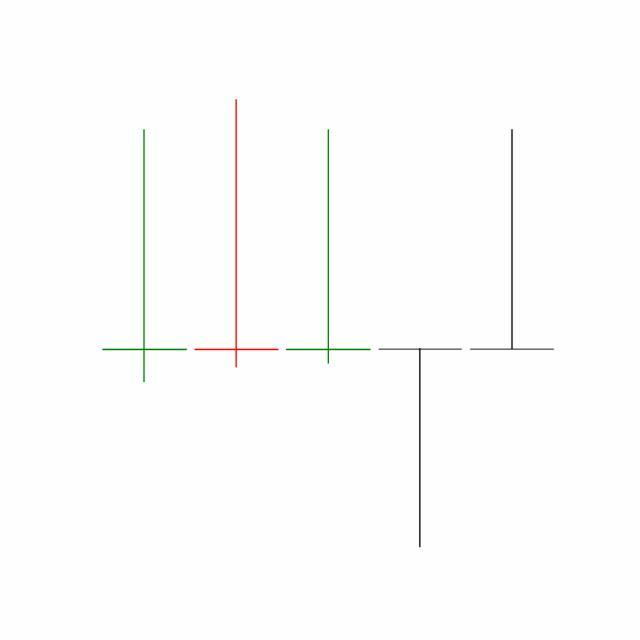Dragonfly Doji: (374, 346, 468, 550)
